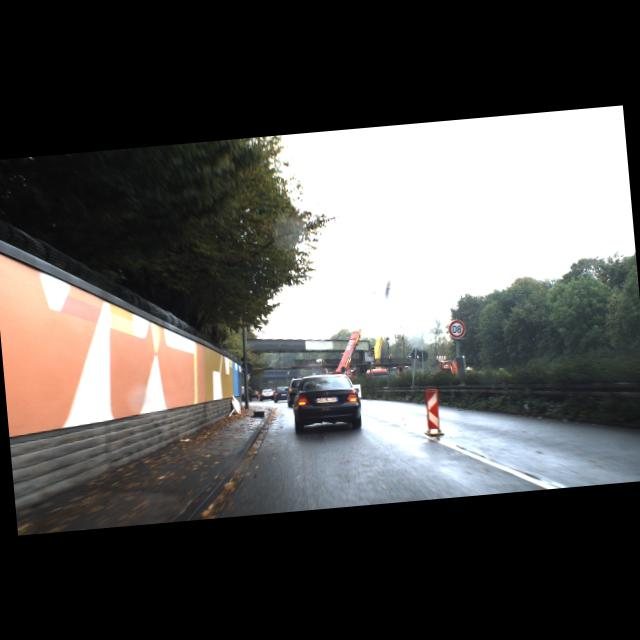prohibitory: (448, 320, 467, 338)
